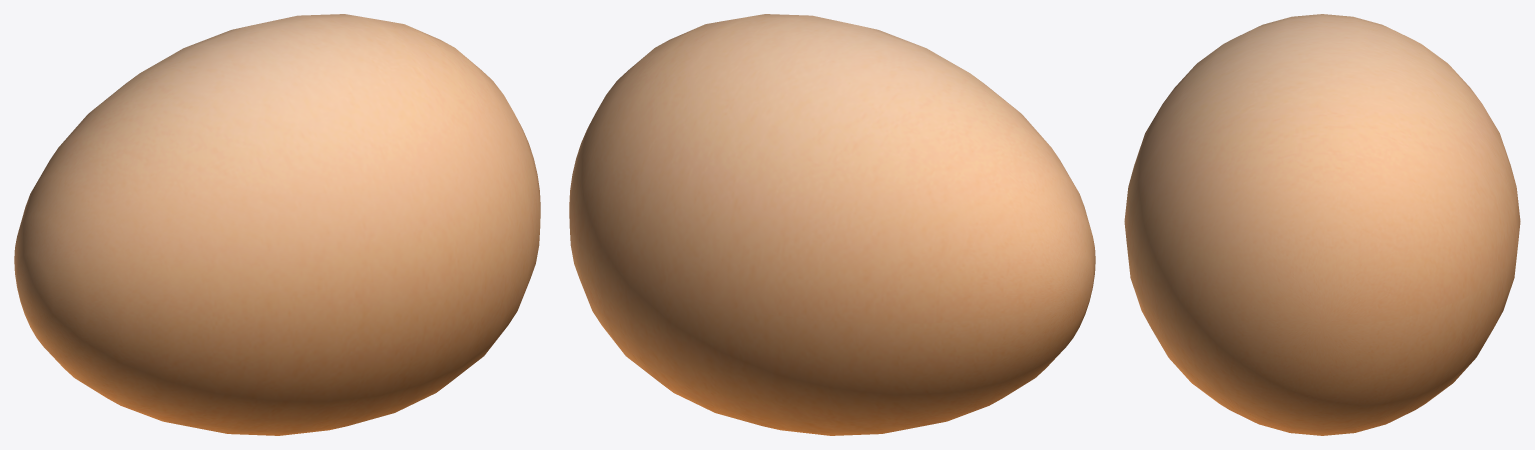
File: jidan_01.FBX
3 renders of one model, left to right at view 1: azimuth 30°, elevation 25°; view 2: azimuth 150°, elevation 25°; view 3: azimuth 270°, elevation 25°, orthographic. The views are drawn at different scales.
Visible parts, largest first — view 1: jidan_01; view 2: jidan_01; view 3: jidan_01.
Boxes of the visible parts, box(x1,y1,x2,y2) form: jidan_01: box(14, 14, 540, 435); jidan_01: box(569, 14, 1095, 435); jidan_01: box(1124, 14, 1520, 435).
Size of the model in its own units: 6.84 by 5.05 by 5.12.
